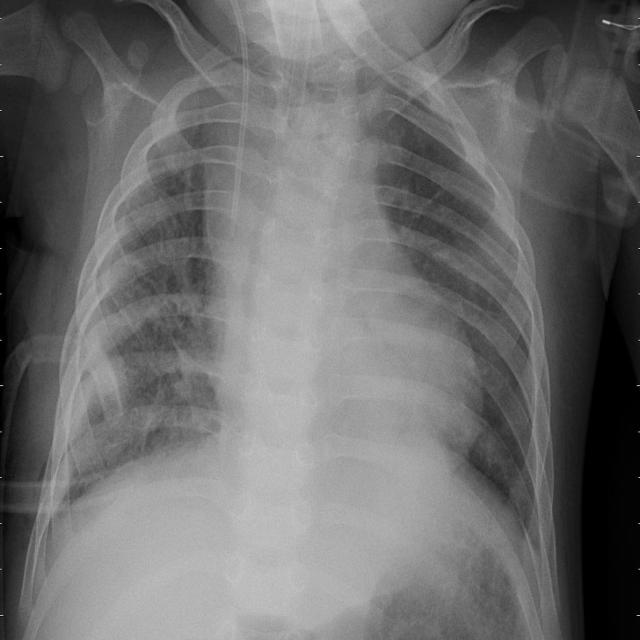low-pneumonia: (134, 310, 225, 461), (358, 65, 433, 172)
